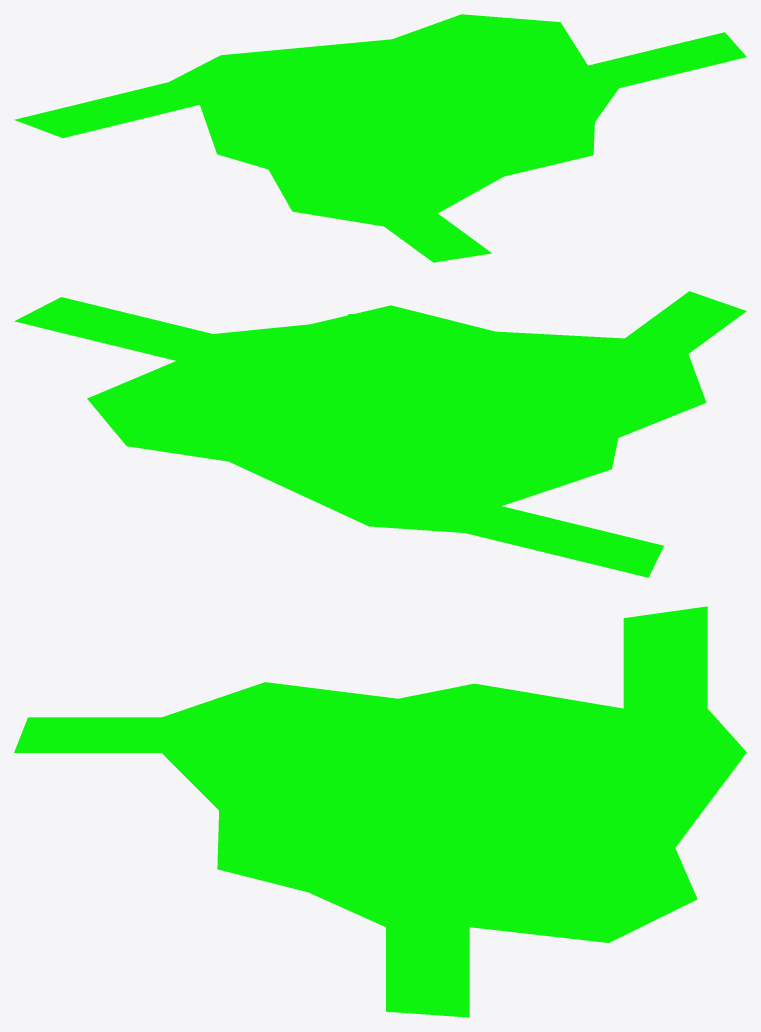
The model's file is s01a_td1-floor.glb.
3 renders of one model, top to bottom at view 1: azimuth 30°, elevation 25°; view 2: azimuth 150°, elevation 25°; view 3: azimuth 270°, elevation 25°, orthographic. The views are drawn at different scales.
Visible parts, largest first — view 1: collision_floor-colonly; view 2: collision_floor-colonly; view 3: collision_floor-colonly.
Part boxes in pixels (x1,y1,x2,y2): collision_floor-colonly: (14, 14, 746, 262); collision_floor-colonly: (14, 291, 746, 577); collision_floor-colonly: (14, 606, 746, 1017).
Size of the model in its own units: 69.58 by 0.1016 by 52.41.
